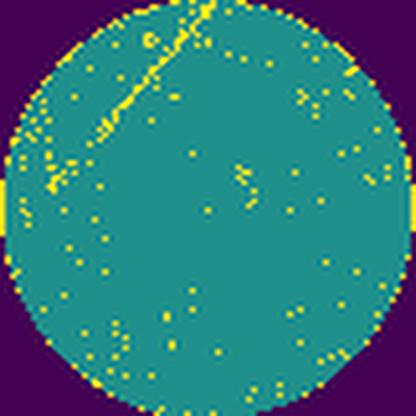Scratch: (88, 0, 218, 148)
